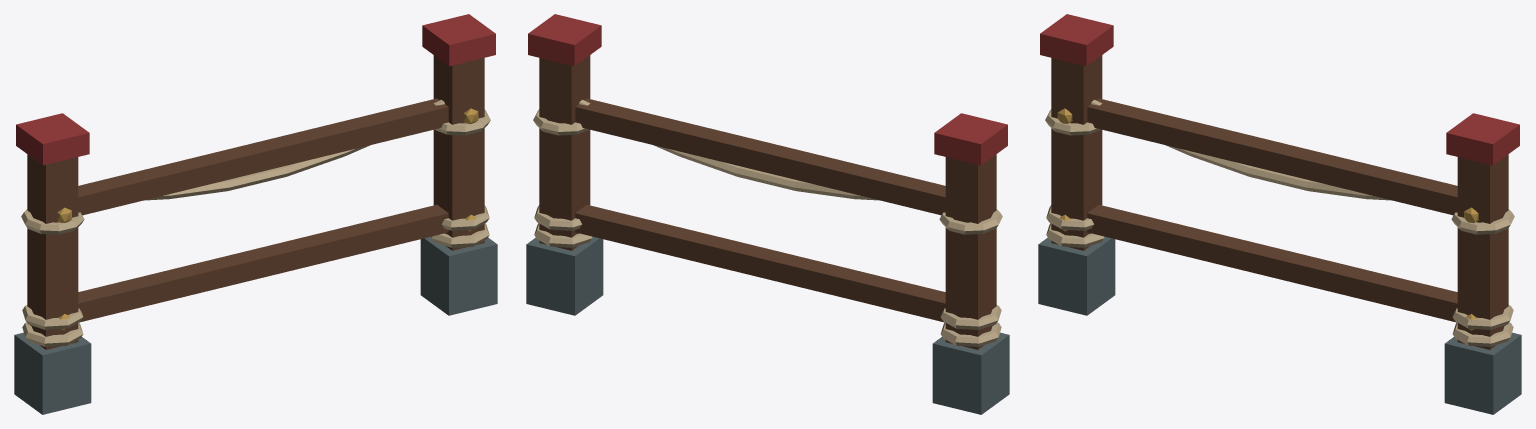
The model's file is PirateCove_FenceStraight_Showcase.glb.
The picture shows the model from 3 angles, left to right: view 1: azimuth 30°, elevation 25°; view 2: azimuth 150°, elevation 25°; view 3: azimuth 330°, elevation 25°; orthographic projection.
Visible parts, largest first — view 1: PirateCove_FenceStraight_Showcase; view 2: PirateCove_FenceStraight_Showcase; view 3: PirateCove_FenceStraight_Showcase.
Boxes of the visible parts, <box> form: PirateCove_FenceStraight_Showcase: <box>14,14,497,414</box>; PirateCove_FenceStraight_Showcase: <box>526,14,1009,414</box>; PirateCove_FenceStraight_Showcase: <box>1038,14,1521,414</box>.
Size of the model in its own units: 2.27 by 1.27 by 0.27.
